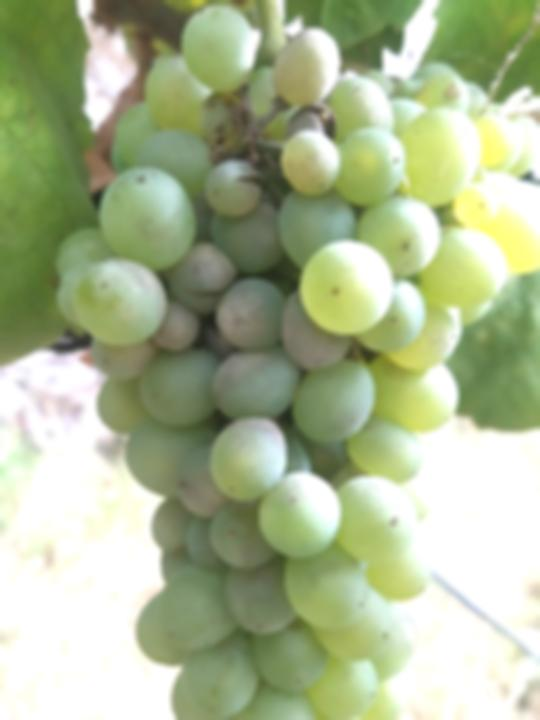grape: (49, 0, 540, 720)
